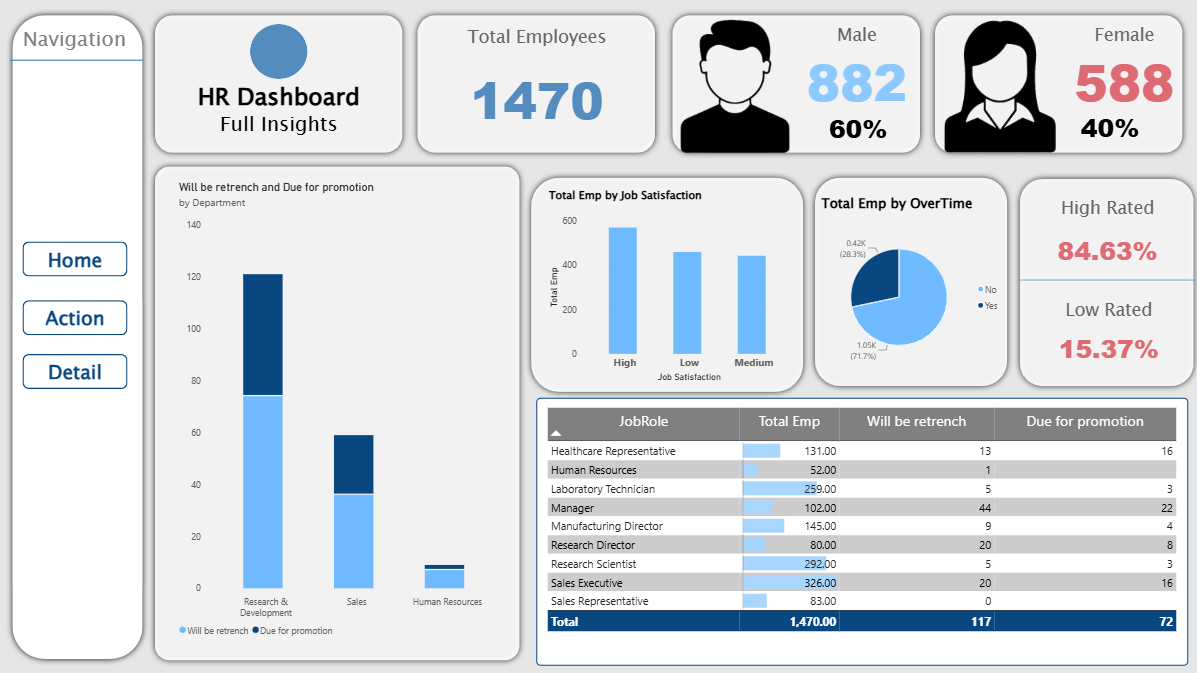

Layout of this report page (visuals, bound fields, positions):
{"tool":"powerbi","page":{"name":"Detail","canvas":[1920,1080],"ordinal":2},"visuals":[{"type":"shape","box":[10,16,228,1050],"z":0},{"type":"shape","box":[238,16,416,240],"z":1000},{"type":"shape","box":[658,16,400,240],"z":2000},{"type":"shape","box":[1066,16,416,240],"z":3000},{"type":"shape","box":[1486,16,416,240],"z":4000},{"type":"textbox","box":[296,128,300,64],"z":5000},{"type":"textbox","box":[296,176,300,64],"z":6000},{"type":"shape","box":[400,40,92,88],"z":7000},{"type":"cardVisual","title":"Total Employees","fields":{"Data":["All Measures.Total Emp"]},"box":[712,40,294,182],"z":8000},{"type":"cardVisual","title":"Male","fields":{"Data":["All Measures.Male"]},"box":[1260,36,222,134],"z":9000},{"type":"cardVisual","title":"Female","fields":{"Data":["All Measures.Female"]},"box":[1686,36,226,134],"z":10000},{"type":"cardVisual","title":"Male","fields":{"Data":["All Measures.% male"]},"box":[1294,172,158,68],"z":11000},{"type":"cardVisual","title":"Female","fields":{"Data":["All Measures.% female"]},"box":[1712,174,128,62],"z":12000},{"type":"image","box":[1076,26,200,222],"z":13000},{"type":"image","box":[1490,26,222,222],"z":14000},{"type":"shape","box":[238.6,257.1,603,810.2],"z":15000},{"type":"columnChart","fields":{"Category":["HR Analytics Data.Department"],"Y":["All Measures.Will be retrench","All Measures.Due for promotion"]},"box":[270.5,275.6,556.3,763.9],"z":16000},{"type":"shape","box":[839.8,275.6,455,362.5],"z":17000},{"type":"shape","box":[1294.8,275.6,327.4,353.3],"z":18000},{"type":"shape","box":[1622.2,277.5,297.8,351.4],"z":19000},{"type":"shape","box":[1631.4,445.8,281.2,7.4],"z":20000},{"type":"columnChart","fields":{"Category":["HR Analytics Data.Job Satisfaction"],"Y":["All Measures.Total Emp"]},"box":[862,286.7,427.3,342.2],"z":21000},{"type":"pieChart","fields":{"Category":["HR Analytics Data.OverTime"],"Y":["All Measures.Total Emp"]},"box":[1298.5,296,323.7,314.5],"z":22000},{"type":"tableEx","fields":{"Values":["HR Analytics Data.JobRole","All Measures.Total Emp","All Measures.Will be retrench","All Measures.Due for promotion"]},"box":[858.3,638.2,1043.2,429.1],"z":23000},{"type":"cardVisual","title":"High Rated","fields":{"Data":["All Measures.% High Rated"]},"box":[1662.9,314.5,220.1,118.4],"z":24000},{"type":"cardVisual","title":"Low Rated","fields":{"Data":["All Measures.% Low Rated"]},"box":[1664.7,475.4,220.1,105.4],"z":25000},{"type":"actionButton","box":[36,388,168,56],"z":25001},{"type":"actionButton","box":[36,482,168,56],"z":25002},{"type":"actionButton","box":[36,568,168,56],"z":25003},{"type":"textbox","box":[0,40,238,52],"z":25004},{"type":"shape","box":[16,92,212,12],"z":25005}]}

Visuals, with their boxes in screenshot pixels (x1, y1, x2, y2), scaled from the page's 1920x1080 canvas onto the 1197x673 screenshot:
shape: bbox=[6, 10, 148, 664]
shape: bbox=[148, 10, 408, 160]
shape: bbox=[410, 10, 660, 160]
shape: bbox=[665, 10, 924, 160]
shape: bbox=[926, 10, 1186, 160]
textbox: bbox=[185, 80, 372, 120]
textbox: bbox=[185, 110, 372, 150]
shape: bbox=[249, 25, 307, 80]
"Total Employees" cardVisual: bbox=[444, 25, 627, 138]
"Male" cardVisual: bbox=[786, 22, 924, 106]
"Female" cardVisual: bbox=[1051, 22, 1192, 106]
"Male" cardVisual: bbox=[807, 107, 905, 150]
"Female" cardVisual: bbox=[1067, 108, 1147, 147]
image: bbox=[671, 16, 796, 155]
image: bbox=[929, 16, 1067, 155]
shape: bbox=[149, 160, 525, 665]
columnChart - HR Analytics Data.Department x All Measures.Will be retrench: bbox=[169, 172, 515, 648]
shape: bbox=[524, 172, 807, 398]
shape: bbox=[807, 172, 1011, 392]
shape: bbox=[1011, 173, 1196, 392]
shape: bbox=[1017, 278, 1192, 282]
columnChart - HR Analytics Data.Job Satisfaction x All Measures.Total Emp: bbox=[537, 179, 804, 392]
pieChart - HR Analytics Data.OverTime x All Measures.Total Emp: bbox=[810, 184, 1011, 380]
tableEx - HR Analytics Data.JobRole x All Measures.Total Emp: bbox=[535, 398, 1185, 665]
"High Rated" cardVisual: bbox=[1037, 196, 1174, 270]
"Low Rated" cardVisual: bbox=[1038, 296, 1175, 362]
actionButton: bbox=[22, 242, 127, 277]
actionButton: bbox=[22, 300, 127, 335]
actionButton: bbox=[22, 354, 127, 389]
textbox: bbox=[0, 25, 148, 57]
shape: bbox=[10, 57, 142, 65]
